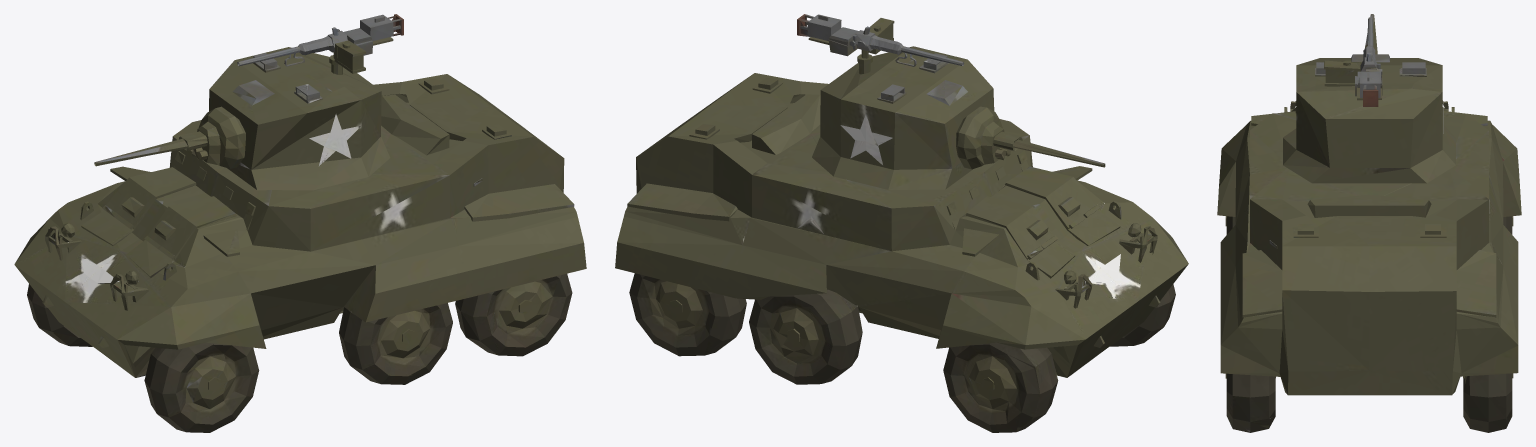
File: bulge_us_cavalry_0.glb
The picture shows the model from 3 angles, left to right: view 1: azimuth 30°, elevation 25°; view 2: azimuth 150°, elevation 25°; view 3: azimuth 270°, elevation 25°; orthographic projection.
Visible parts, largest first — view 1: geometry_0; view 2: geometry_0; view 3: geometry_0.
Part boxes in pixels (<box>): geometry_0: <box>14,14,586,432</box>; geometry_0: <box>615,14,1188,432</box>; geometry_0: <box>1217,14,1521,432</box>.
Size of the model in its own units: 0.6358 by 0.414 by 0.3628.
1 material, 1 textured.
